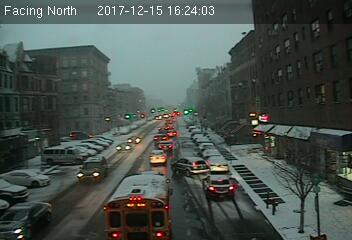car: (1, 199, 55, 240), (75, 155, 107, 183), (203, 174, 235, 199), (173, 156, 209, 176), (207, 156, 229, 173), (148, 149, 167, 164), (115, 142, 133, 153), (158, 140, 172, 151)
truck: (106, 173, 176, 240)
